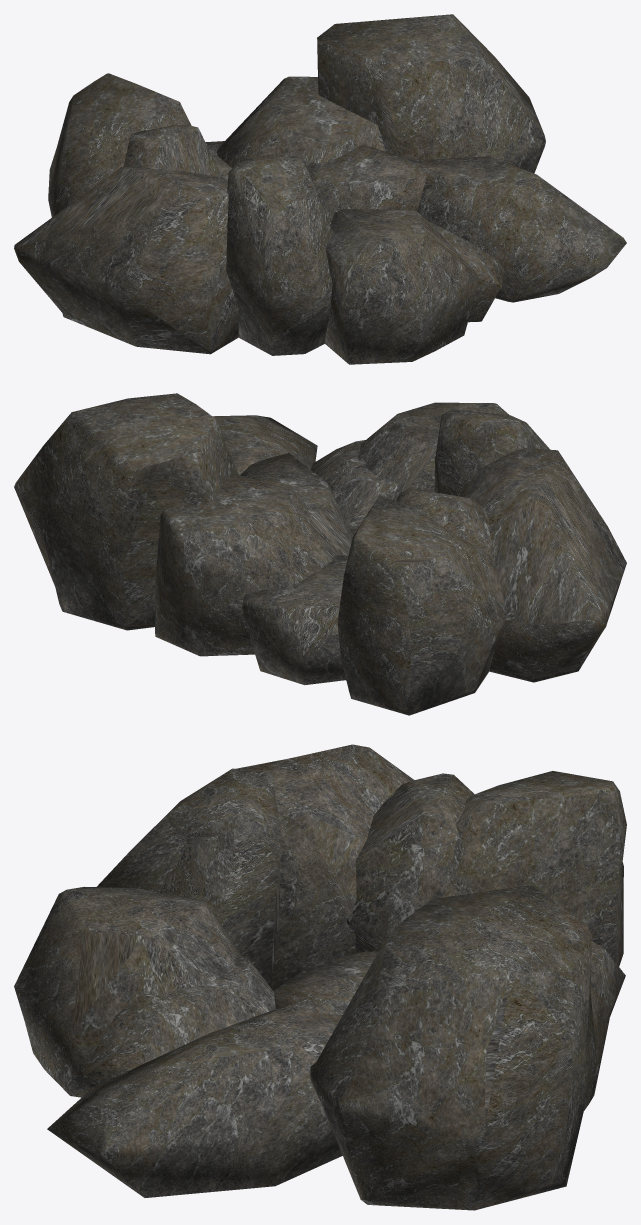
Rendered from scree_cluster_LOD1.fbx.
3 renders of one model, top to bottom at view 1: azimuth 30°, elevation 25°; view 2: azimuth 150°, elevation 25°; view 3: azimuth 270°, elevation 25°, orthographic. The views are drawn at different scales.
Parts seen in each view (by area): view 1: scree_cluster_LOD1; view 2: scree_cluster_LOD1; view 3: scree_cluster_LOD1.
Part boxes in pixels (box(x1,y1,x2,y2)): scree_cluster_LOD1: box(14, 14, 626, 364); scree_cluster_LOD1: box(14, 393, 626, 715); scree_cluster_LOD1: box(14, 744, 626, 1210).
Bounding box in the file's own units: 420 × 130 × 311.
